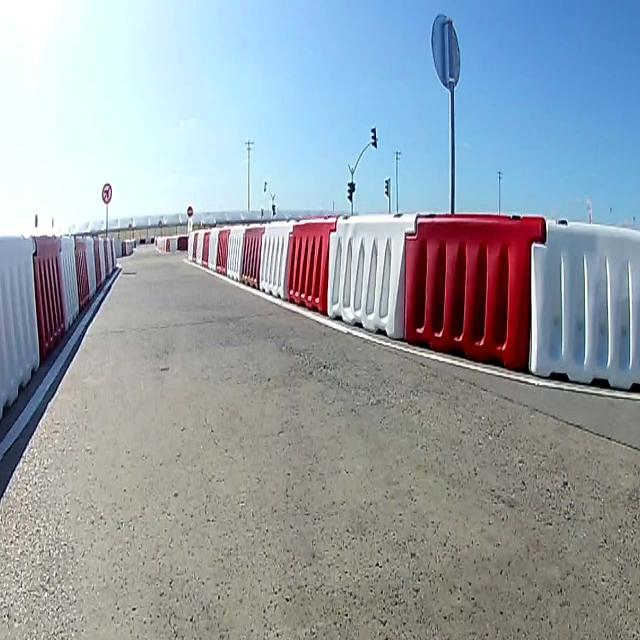soladonulmez: (103, 181, 112, 203)
